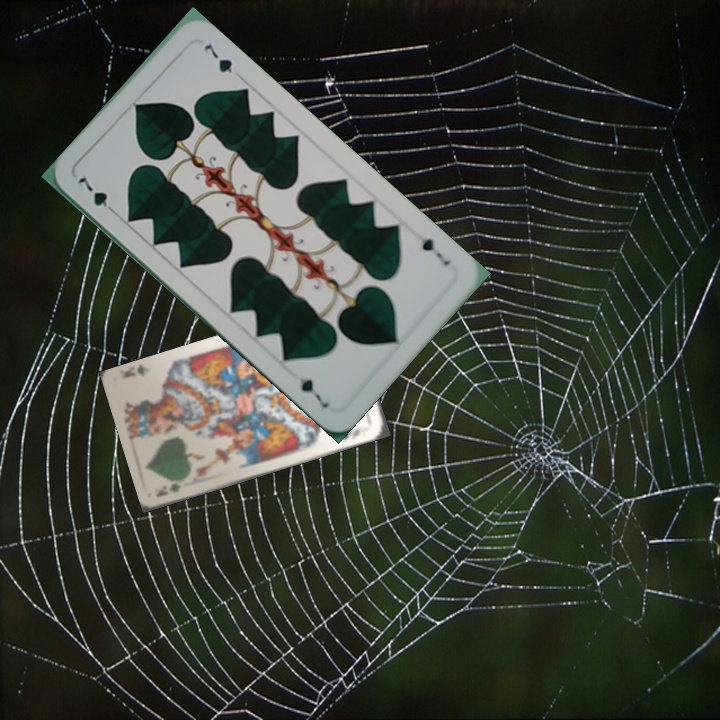G7: (73, 173, 120, 218), (417, 233, 453, 269)
GK: (153, 479, 184, 499)
